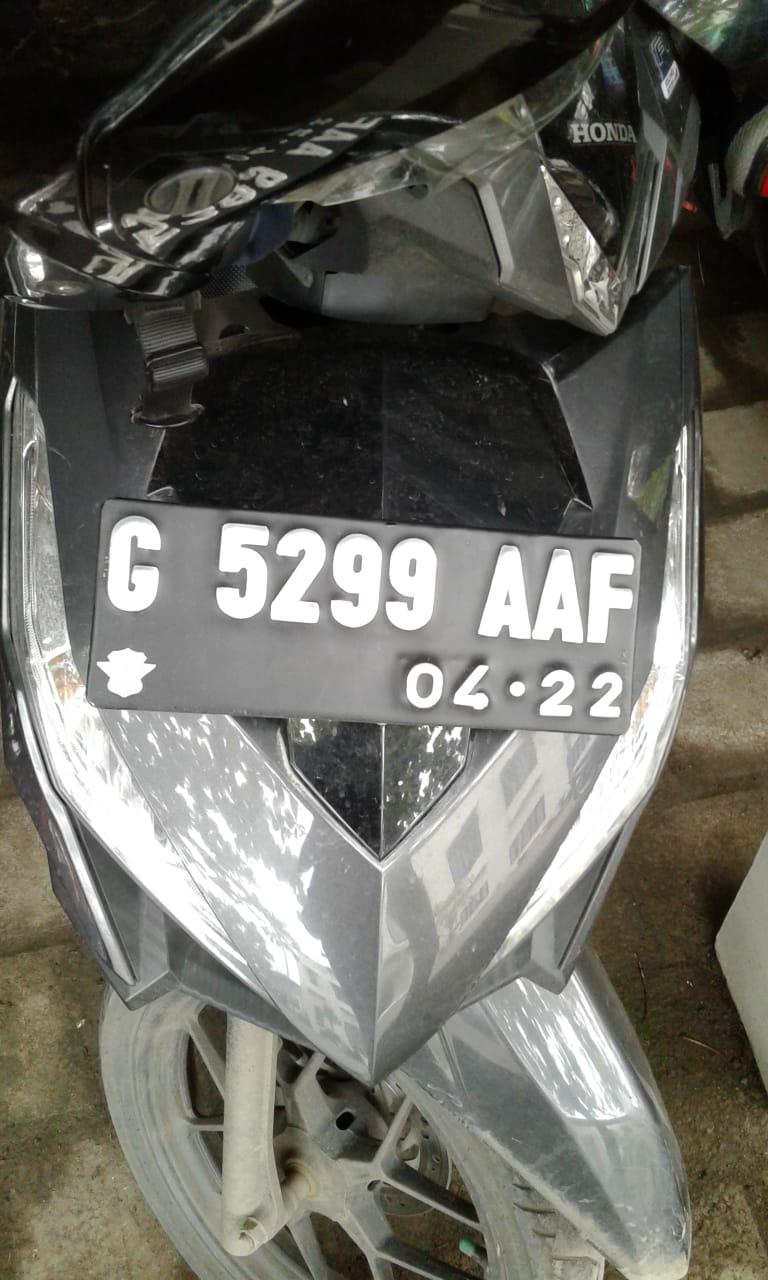plat: (88, 500, 640, 735)
